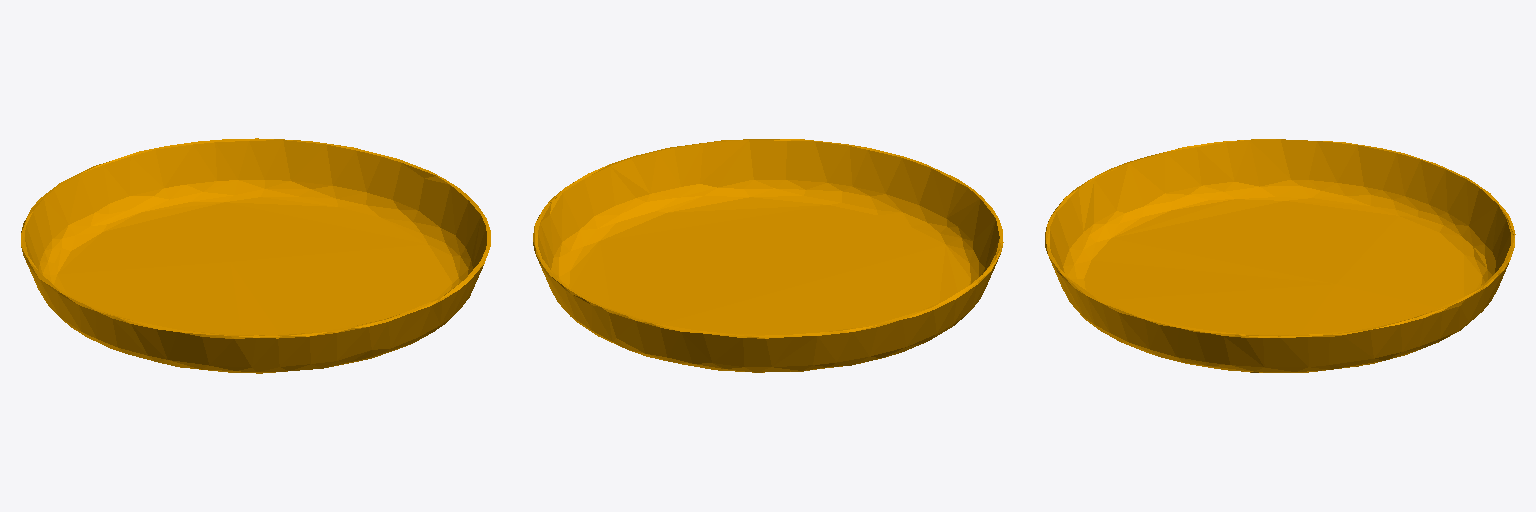
URDF robot description (model.urdf):
<?xml version="1.0" ?>
        <robot name="model.urdf">
        <link name="baseLink">
            <contact>
                <lateral_friction value="0.8"/>
                <rolling_friction value="0.001"/>g
                <contact_cfm value="0.0"/>
                <contact_erp value="1.0"/>
            </contact>
            <inertial>
                <mass value="0.066"/>
                <inertia ixx="0.001" ixy="0" ixz="0" iyy="0.001" iyz="0" izz="0.001"/>
            </inertial>
            <visual>
            <geometry>
                <mesh filename="plate.obj" scale="1 1 1"/>
            </geometry>
            
            </visual>
            <collision>
            <geometry>
                <mesh filename="plate.obj" scale="1 1 1"/>
            </geometry>
            </collision>
        </link>
        </robot>

--- What the picture shows (computed from the rendered views, not written in the file) ---
Views: 3 orthographic renders of the robot side by side, from view 1: azimuth 30°, elevation 25°; view 2: azimuth 150°, elevation 25°; view 3: azimuth 270°, elevation 25°.
Robot: model.urdf — 1 links, 0 joints (none); root link baseLink; default pose: every joint at zero.
Visible links, largest first — view 1: baseLink; view 2: baseLink; view 3: baseLink.
Boxes of the visible links, bbox=[...] form: baseLink: bbox=[21, 138, 490, 373]; baseLink: bbox=[533, 139, 1003, 372]; baseLink: bbox=[1045, 139, 1515, 372].
Bounding box of the posed robot: 0.1853 × 0.1853 × 0.0235 m (x, y, z).
Meshes: 1 distinct files referenced, 1 mesh visuals loaded (1 OBJ).